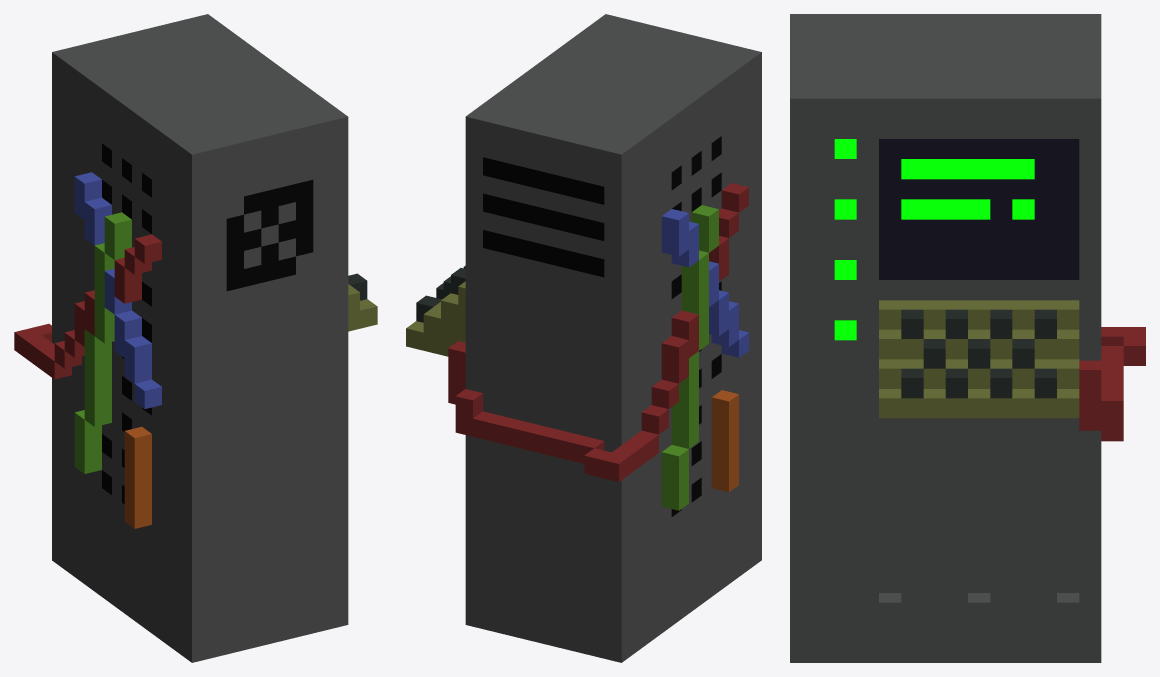
File: server_terminal.gltf
The picture shows the model from 3 angles, left to right: view 1: azimuth 30°, elevation 25°; view 2: azimuth 150°, elevation 25°; view 3: azimuth 270°, elevation 25°; orthographic projection. The views are drawn at different scales.
Bounding box in the file's own units: 14 × 28 × 16.
2 materials, 2 textured.
